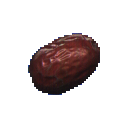gd: (15, 18, 115, 123)
